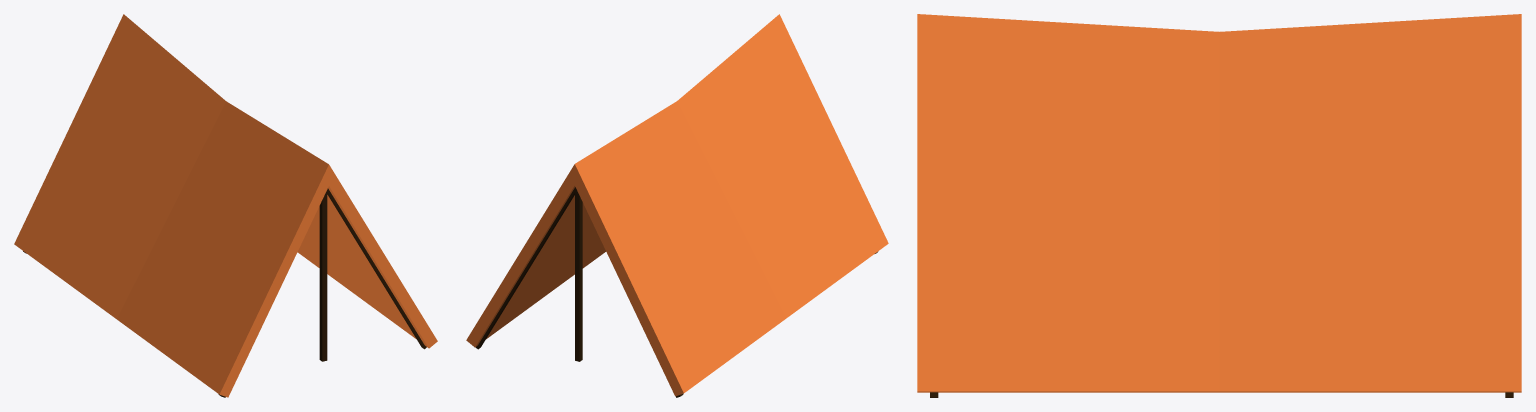
File: Camp_Tent.fbx
The picture shows the model from 3 angles, left to right: view 1: azimuth 30°, elevation 25°; view 2: azimuth 150°, elevation 25°; view 3: azimuth 270°, elevation 25°; orthographic projection. The views are drawn at different scales.
Parts seen in each view (by area): view 1: Cube.003; view 2: Cube.003; view 3: Cube.003.
Part boxes in pixels (x1,y1,x2,y2): Cube.003: (14, 14, 437, 397); Cube.003: (466, 14, 888, 397); Cube.003: (917, 14, 1521, 397).
Bounding box in the file's own units: 206 × 191 × 335.
